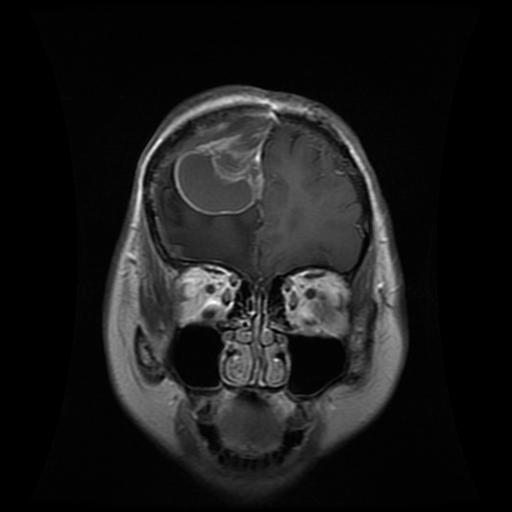Gliomia_tumour: (173, 116, 272, 214)
